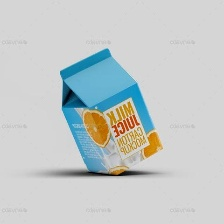carton: (56, 44, 165, 176)
